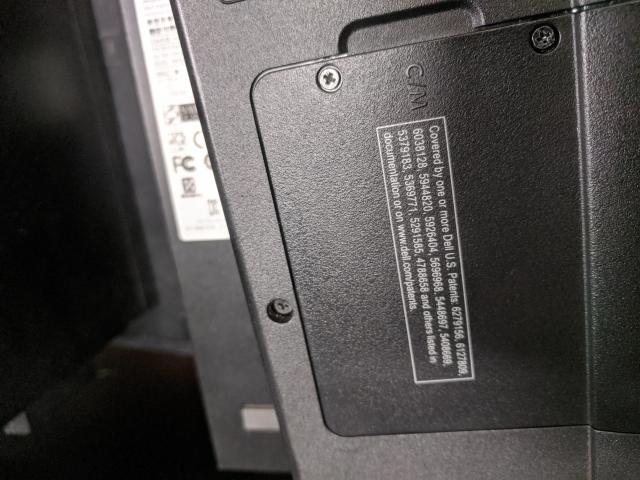CRS: (529, 22, 561, 54), (272, 296, 302, 318), (318, 66, 342, 90)
